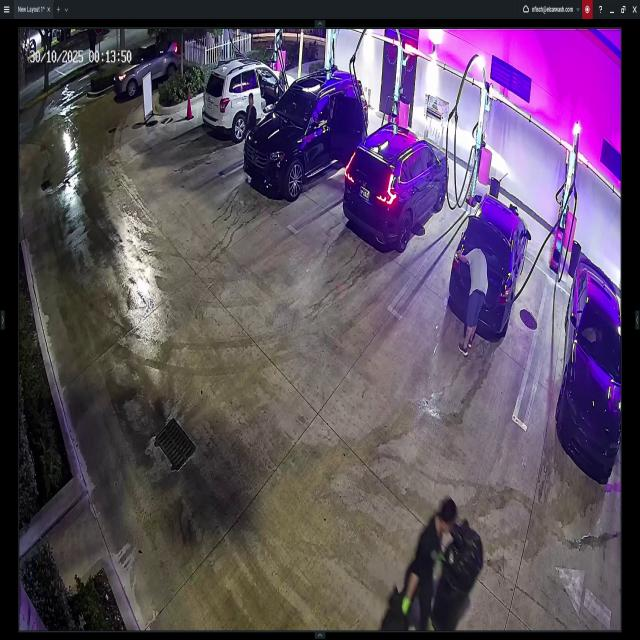Car: (245, 72, 367, 194), (343, 125, 450, 252), (563, 266, 621, 478), (452, 188, 530, 342), (203, 56, 296, 140), (111, 44, 185, 99)
